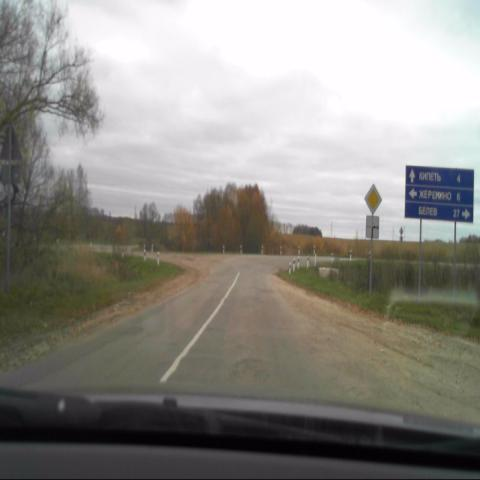2_1: (364, 185, 382, 214)
